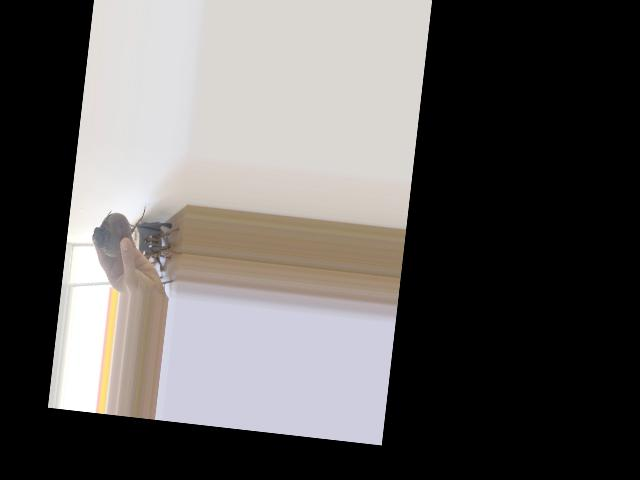beet: (90, 197, 146, 259)
